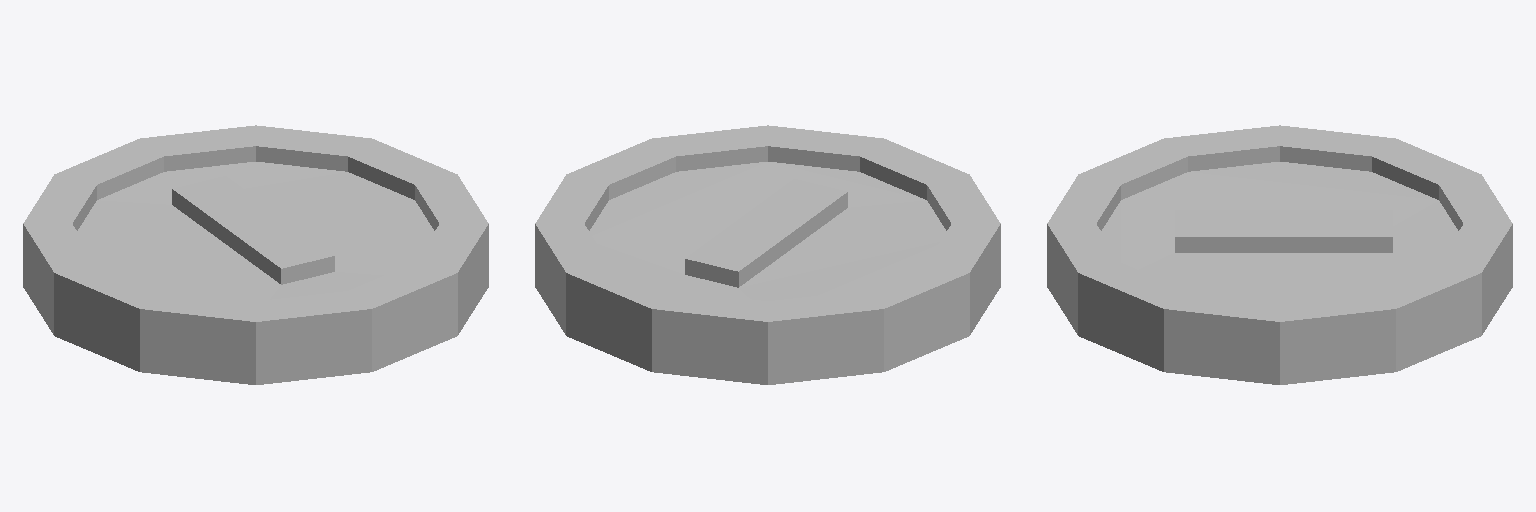
File: coin.obj
3 views of the same model, side by side, from view 1: azimuth 30°, elevation 25°; view 2: azimuth 150°, elevation 25°; view 3: azimuth 270°, elevation 25° (orthographic).
Visible parts, largest first — view 1: Cylinder_Cylinder.001; view 2: Cylinder_Cylinder.001; view 3: Cylinder_Cylinder.001.
Part boxes in pixels (x1,y1,x2,y2): Cylinder_Cylinder.001: (23, 125, 488, 384); Cylinder_Cylinder.001: (535, 125, 1000, 384); Cylinder_Cylinder.001: (1047, 125, 1512, 384).
Bounding box in the file's own units: 1 × 0.1534 × 1.